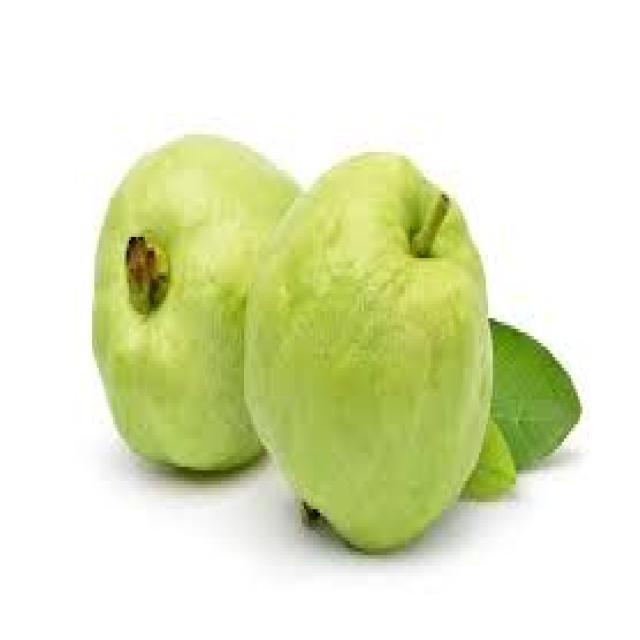Guava: (261, 156, 495, 538), (110, 177, 285, 492)
